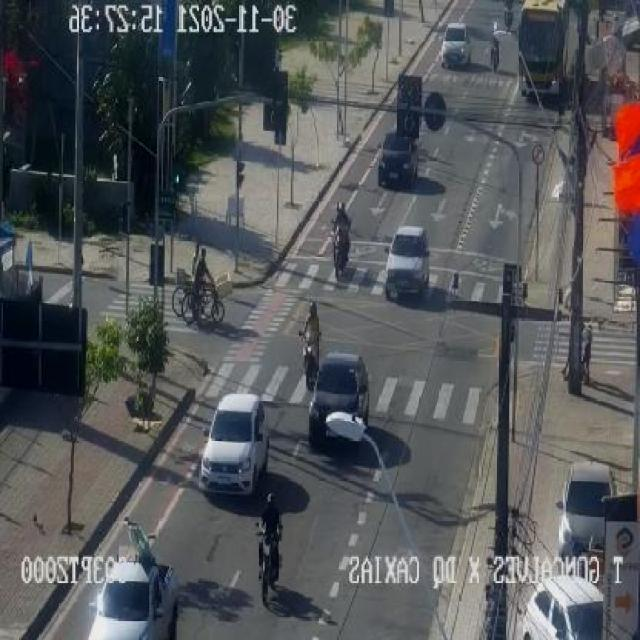Bus: (514, 0, 571, 94)
Car: (192, 384, 276, 508), (83, 549, 188, 640), (304, 351, 378, 459), (558, 453, 618, 565), (522, 574, 608, 640), (372, 225, 440, 304), (378, 130, 419, 193), (440, 19, 473, 77)
Cycle: (170, 240, 228, 344), (252, 488, 288, 610), (295, 299, 327, 393), (328, 200, 360, 283), (486, 30, 504, 76), (502, 1, 515, 32)
